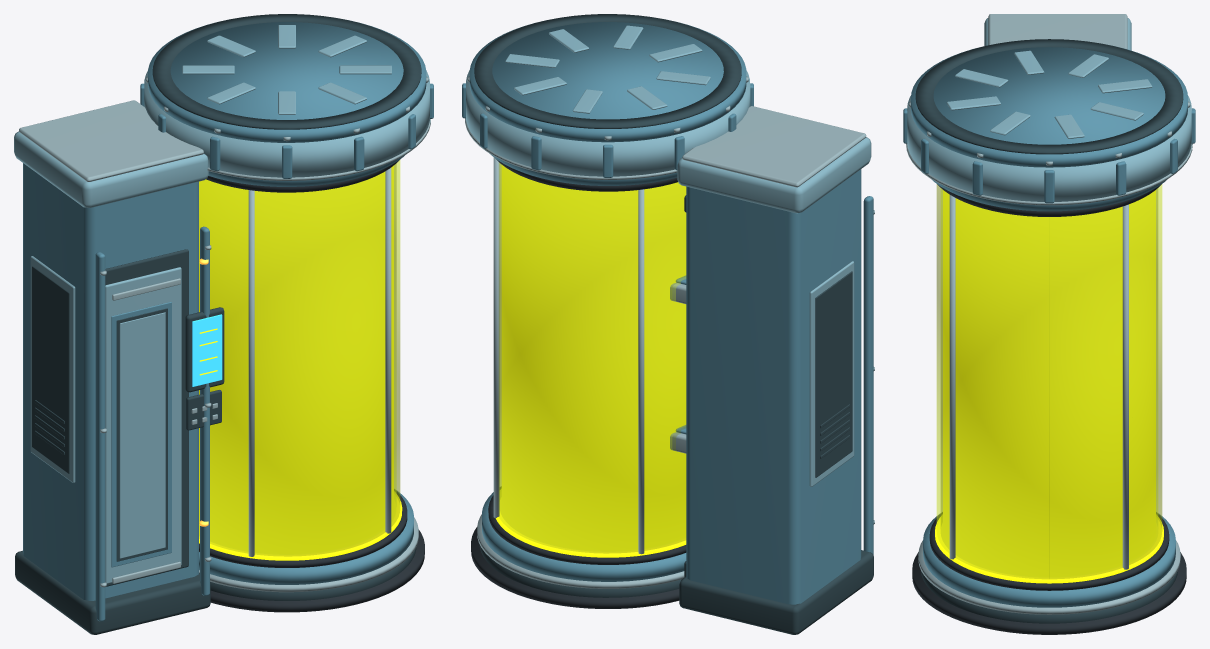
The model's file is BlueTube_NeonYellowCore_StudioTextured.glb.
3 renders of one model, left to right at view 1: azimuth 30°, elevation 25°; view 2: azimuth 150°, elevation 25°; view 3: azimuth 270°, elevation 25°, orthographic.
Visible parts, largest first — view 1: Tube_Glossy_cobalt_blue_enamel, Tube_Yellow_glass_shell, Tube_Neon_yellow_energy_core, Tube_Worn_light_blue_panels, Tube_Recessed_graphite, Tube_Polished_steel_edge, Tube_Dark_rubber_gasket, Tube_Diagnostic_screen, Tube_Indicator_neon_yellow; view 2: Tube_Glossy_cobalt_blue_enamel, Tube_Yellow_glass_shell, Tube_Neon_yellow_energy_core, Tube_Recessed_graphite, Tube_Worn_light_blue_panels, Tube_Polished_steel_edge, Tube_Dark_rubber_gasket, Tube_Indicator_neon_yellow; view 3: Tube_Yellow_glass_shell, Tube_Neon_yellow_energy_core, Tube_Glossy_cobalt_blue_enamel, Tube_Worn_light_blue_panels, Tube_Polished_steel_edge, Tube_Recessed_graphite, Tube_Dark_rubber_gasket, Tube_Indicator_neon_yellow.
Boxes of the visible parts, x1,y1,x2,y2 form: Tube_Glossy_cobalt_blue_enamel: (23, 19, 433, 621); Tube_Yellow_glass_shell: (199, 160, 400, 556); Tube_Neon_yellow_energy_core: (199, 165, 393, 553); Tube_Worn_light_blue_panels: (14, 25, 429, 583); Tube_Recessed_graphite: (15, 14, 421, 634); Tube_Polished_steel_edge: (19, 76, 430, 592); Tube_Dark_rubber_gasket: (199, 160, 424, 612); Tube_Diagnostic_screen: (192, 314, 222, 386); Tube_Indicator_neon_yellow: (199, 328, 402, 560); Tube_Glossy_cobalt_blue_enamel: (462, 19, 873, 604); Tube_Yellow_glass_shell: (499, 163, 686, 553); Tube_Neon_yellow_energy_core: (501, 165, 686, 550); Tube_Recessed_graphite: (474, 14, 873, 634); Tube_Worn_light_blue_panels: (466, 25, 871, 486); Tube_Polished_steel_edge: (465, 76, 874, 588); Tube_Dark_rubber_gasket: (471, 159, 686, 608); Tube_Indicator_neon_yellow: (495, 489, 686, 557); Tube_Yellow_glass_shell: (936, 184, 1162, 578); Tube_Neon_yellow_energy_core: (943, 190, 1155, 576); Tube_Glossy_cobalt_blue_enamel: (903, 46, 1195, 607); Tube_Worn_light_blue_panels: (907, 18, 1191, 201); Tube_Polished_steel_edge: (906, 14, 1192, 614); Tube_Recessed_graphite: (915, 39, 1183, 623); Tube_Dark_rubber_gasket: (912, 184, 1186, 634); Tube_Indicator_neon_yellow: (935, 515, 1163, 583).
Size of the model in its own units: 9.44 by 12.1 by 6.63.
10 materials, 10 textured.
